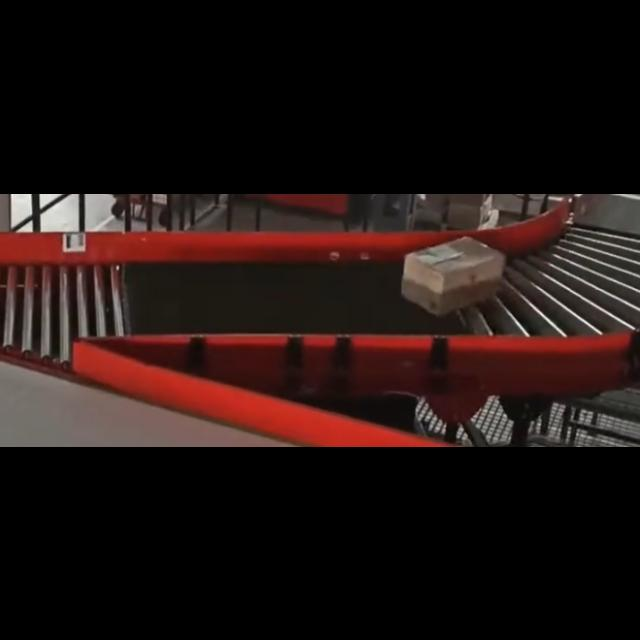box: (402, 235, 503, 312)
